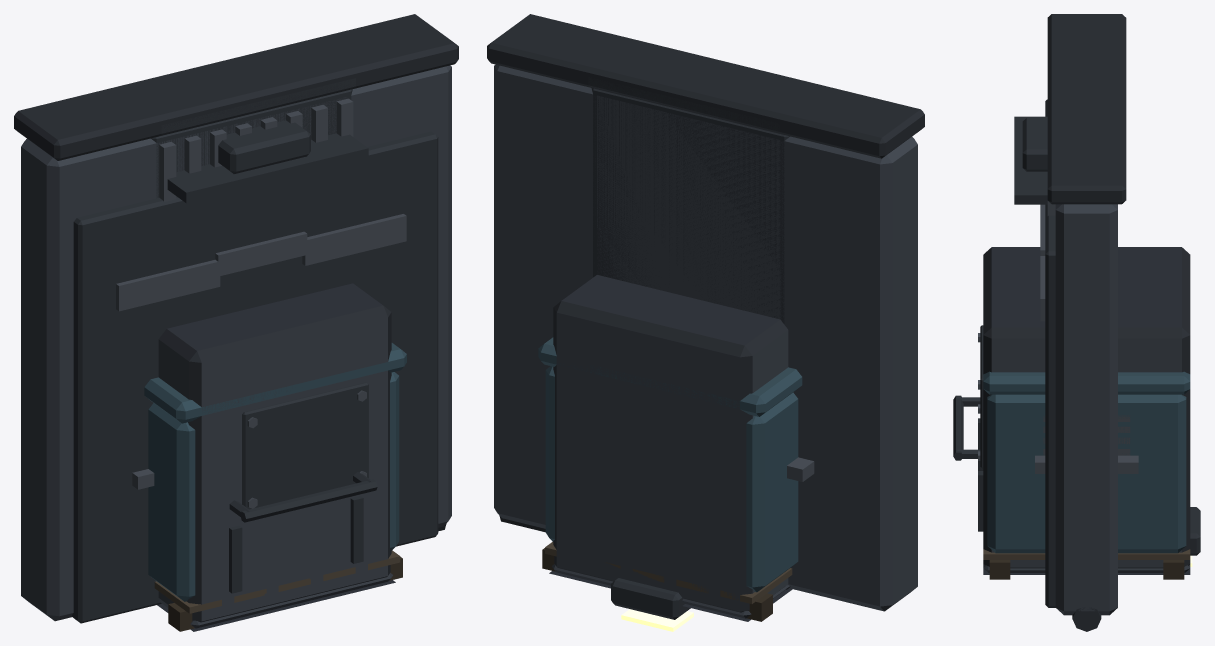
File: env-kit.glb
3 views of the same model, side by side, from view 1: azimuth 30°, elevation 25°; view 2: azimuth 150°, elevation 25°; view 3: azimuth 270°, elevation 25° (orthographic). The views are drawn at different scales.
Visible parts, largest first — view 1: edge_gate, wall_block, edge_door, prop_dumpster, wall_block_plate, edge_corrugated, prop_cart, prop_pallet, floor_grate, street_tile; view 2: edge_gate, wall_block, edge_door, edge_corrugated, prop_dumpster, prop_lamp_wall, prop_pallet, floor_grate; view 3: edge_gate, prop_dumpster, wall_block, edge_door, prop_pallet, prop_cart, wall_block_plate, prop_lamp_wall, prop_pipe, floor_grate, wall_block_grille.
Boxes of the visible parts, x1=… form: edge_gate: x1=14, y1=14, x2=458, y2=623; wall_block: x1=158, y1=283, x2=391, y2=622; edge_door: x1=120, y1=38, x2=368, y2=324; prop_dumpster: x1=132, y1=343, x2=406, y2=601; wall_block_plate: x1=242, y1=382, x2=368, y2=509; edge_corrugated: x1=151, y1=78, x2=355, y2=201; prop_cart: x1=229, y1=472, x2=377, y2=593; prop_pallet: x1=154, y1=550, x2=402, y2=631; floor_grate: x1=159, y1=573, x2=392, y2=628; street_tile: x1=157, y1=580, x2=395, y2=631; edge_gate: x1=487, y1=14, x2=924, y2=611; wall_block: x1=553, y1=275, x2=788, y2=612; edge_door: x1=588, y1=38, x2=818, y2=319; edge_corrugated: x1=588, y1=77, x2=790, y2=589; prop_dumpster: x1=538, y1=337, x2=814, y2=592; prop_lamp_wall: x1=611, y1=578, x2=693, y2=631; prop_pallet: x1=542, y1=542, x2=792, y2=621; floor_grate: x1=552, y1=564, x2=789, y2=618; edge_gate: x1=1022, y1=14, x2=1126, y2=615; prop_dumpster: x1=983, y1=371, x2=1190, y2=553; wall_block: x1=983, y1=247, x2=1190, y2=568; edge_door: x1=1014, y1=57, x2=1126, y2=255; prop_pallet: x1=983, y1=549, x2=1190, y2=579; prop_cart: x1=953, y1=395, x2=983, y2=531; wall_block_plate: x1=978, y1=325, x2=983, y2=468; prop_lamp_wall: x1=1190, y1=507, x2=1200, y2=566; prop_pipe: x1=1072, y1=607, x2=1101, y2=631; floor_grate: x1=983, y1=564, x2=1190, y2=572; wall_block_grille: x1=1043, y1=415, x2=1130, y2=455.
Size of the model in its own units: 2 by 2.43 by 1.2.
